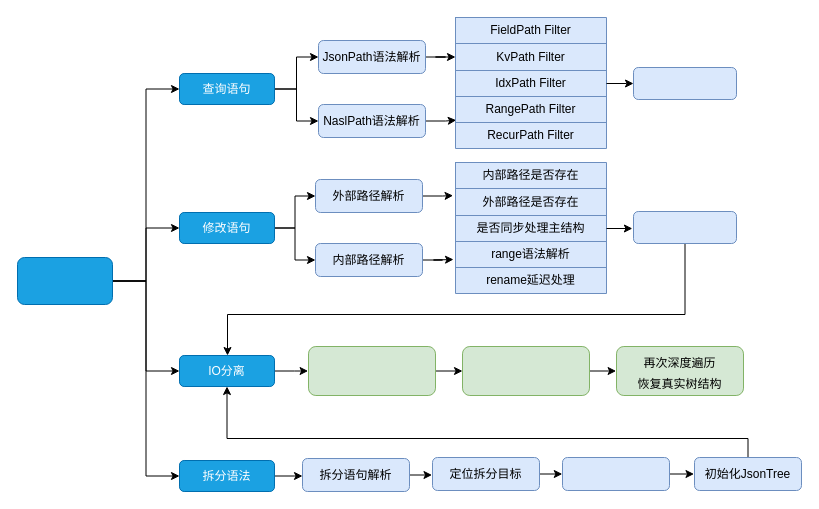
This 819x509 diagram has some shape labels left out. The centre of each missing label's shape, as x and y in pixels:
"MongoHuge" goes at point (64, 280).
"mongo批处理" goes at point (526, 371).
"批查询填充子结构" goes at point (684, 83).
"构建setKey" goes at point (684, 227).
"深度遍历生成假结构 获得全量更新数据" goes at point (372, 371).
"确认关联字段" goes at point (616, 473).
